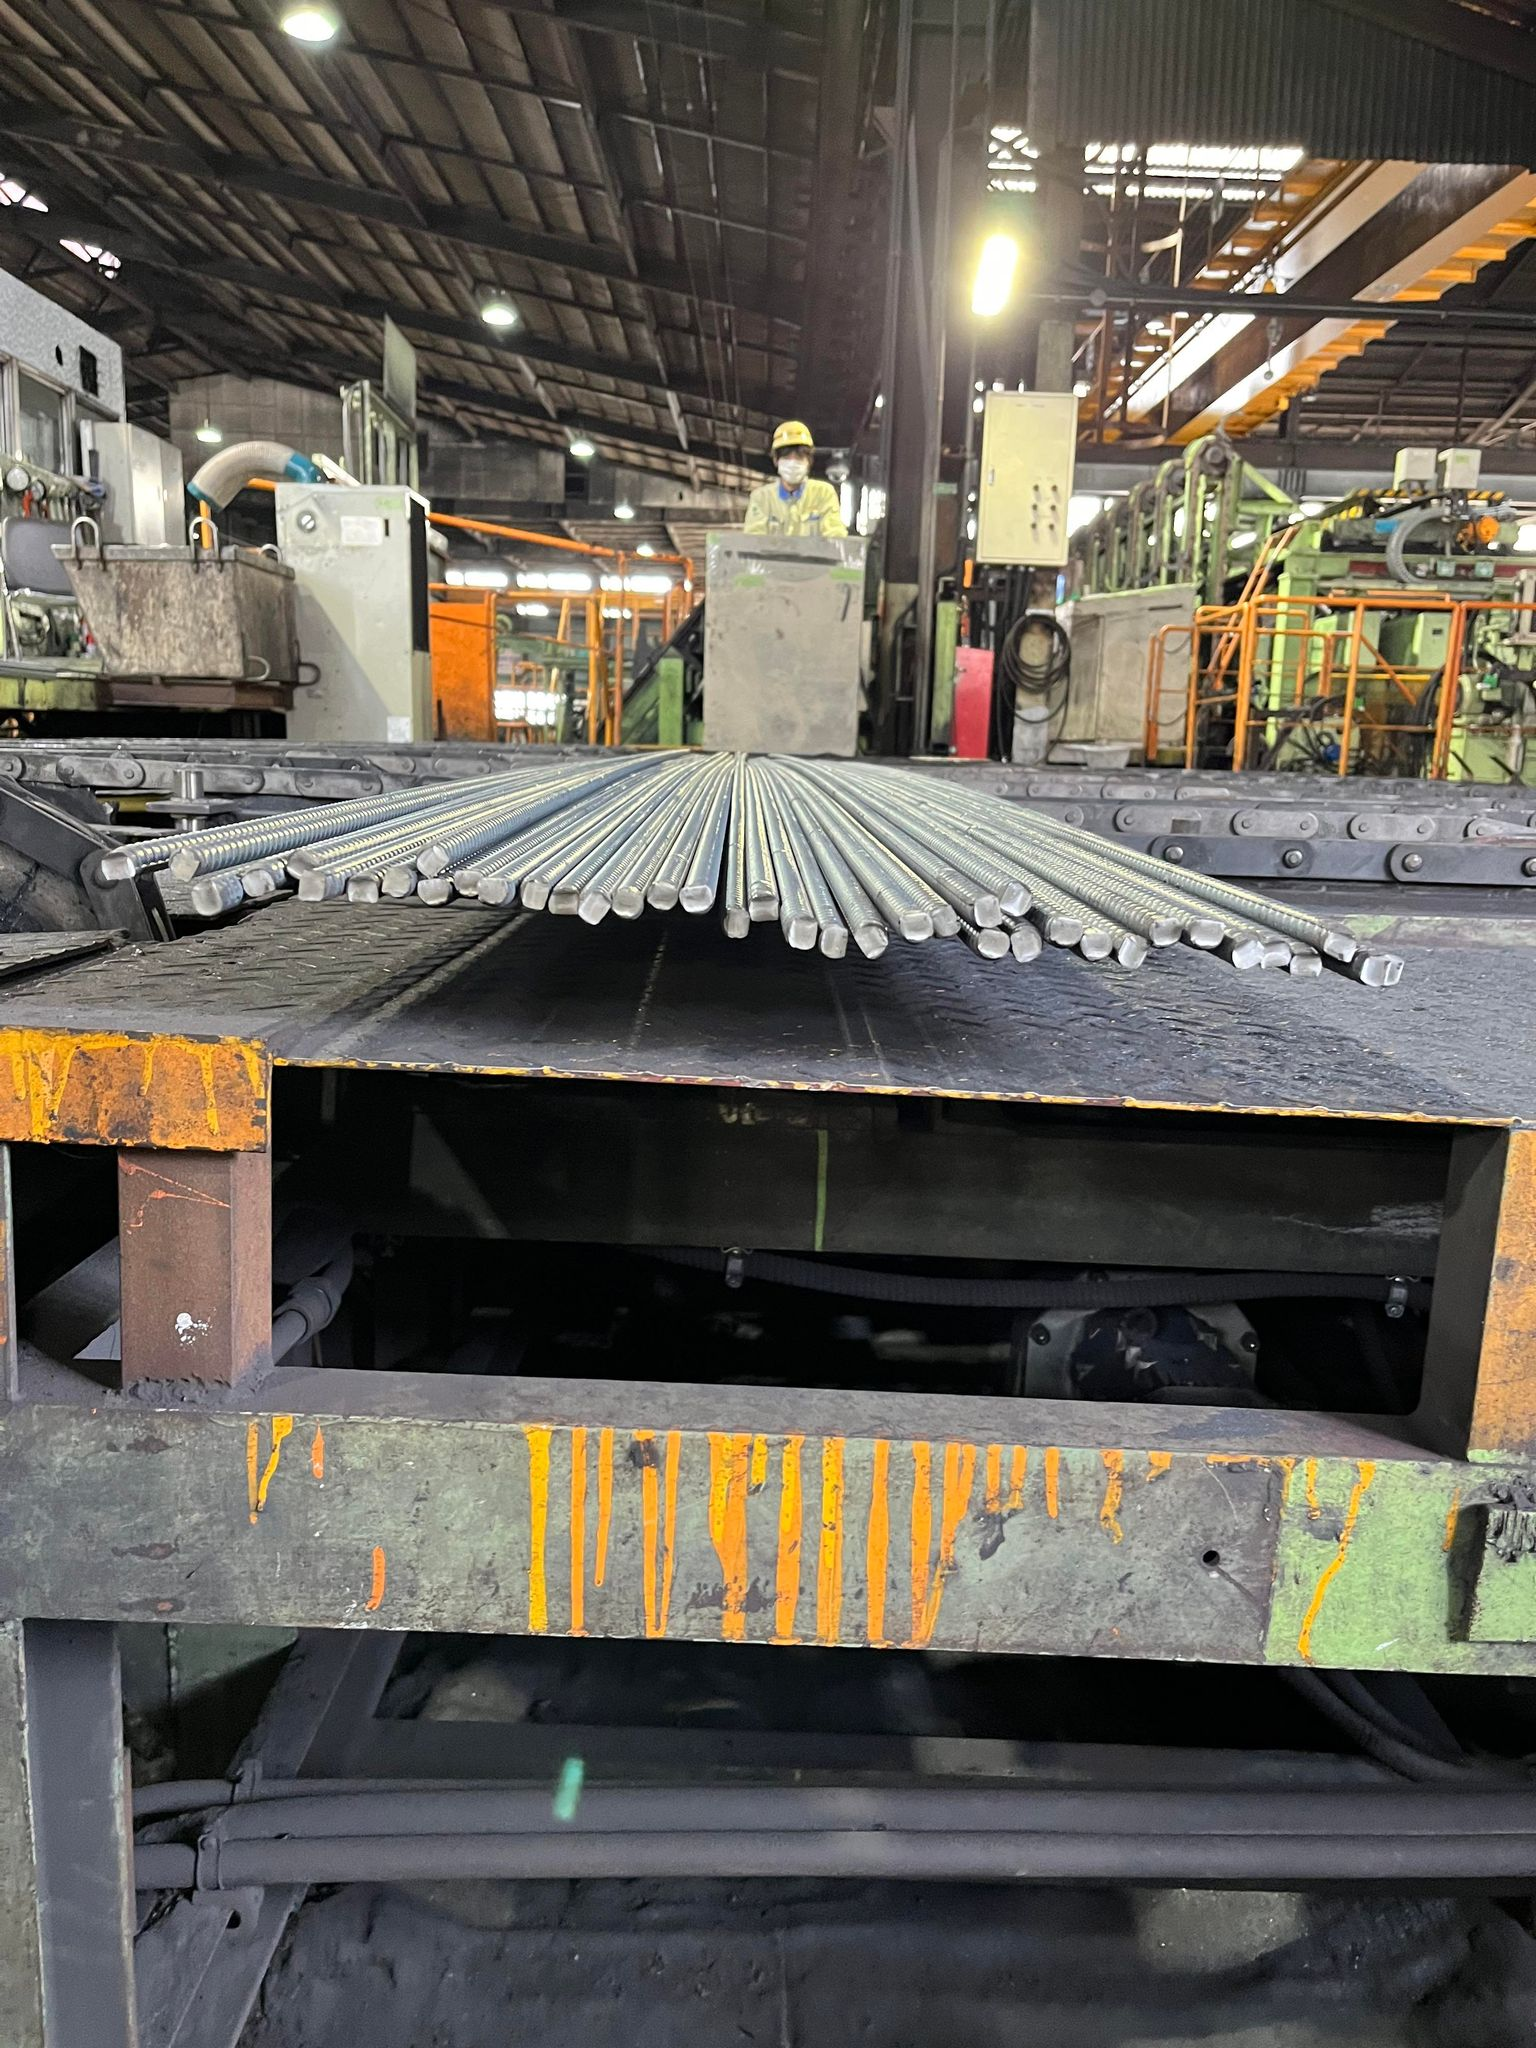rod: (850, 921, 891, 961), (189, 877, 227, 916), (1186, 918, 1229, 951), (897, 906, 934, 945), (98, 848, 140, 882), (166, 845, 202, 884), (415, 842, 453, 877), (1229, 934, 1263, 974), (1079, 926, 1115, 963), (1321, 926, 1357, 963), (786, 913, 820, 951), (474, 876, 516, 906), (1012, 922, 1042, 964), (1117, 932, 1149, 971), (415, 877, 457, 906), (284, 847, 319, 880), (611, 884, 645, 919), (1000, 880, 1034, 916), (975, 927, 1010, 961), (579, 889, 611, 926), (678, 884, 715, 916), (1046, 914, 1083, 947), (721, 901, 750, 942), (295, 871, 331, 903), (344, 872, 379, 905), (1359, 955, 1391, 990), (240, 866, 278, 897), (647, 879, 679, 913), (749, 889, 781, 922), (818, 926, 850, 959), (1149, 916, 1183, 948), (520, 876, 550, 911), (971, 893, 1002, 929), (382, 864, 415, 897), (1289, 948, 1325, 977), (933, 903, 960, 939), (549, 885, 579, 916), (1262, 939, 1292, 969), (452, 868, 482, 897)
